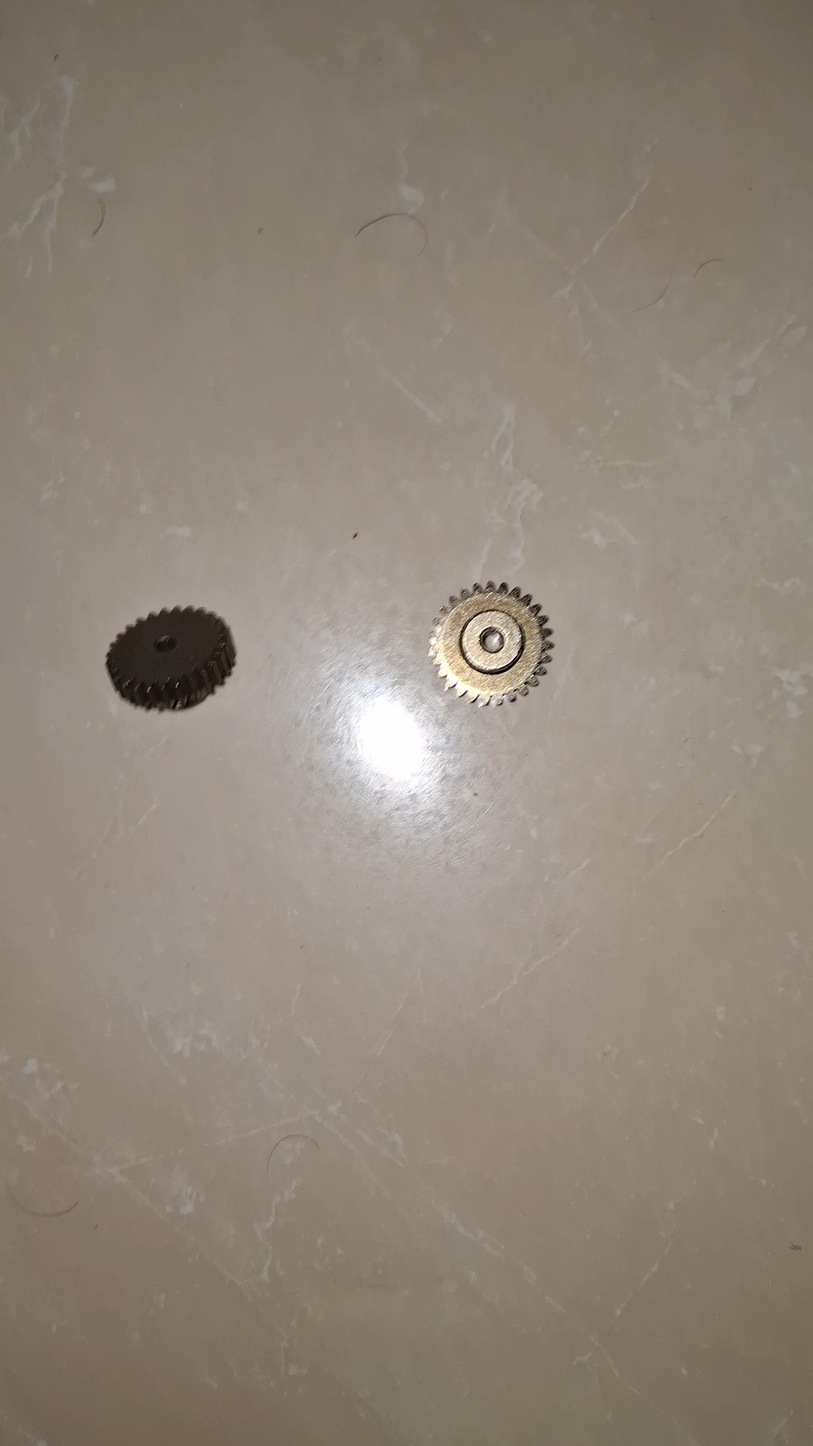spur gear: (429, 582, 553, 705), (106, 608, 236, 709)
